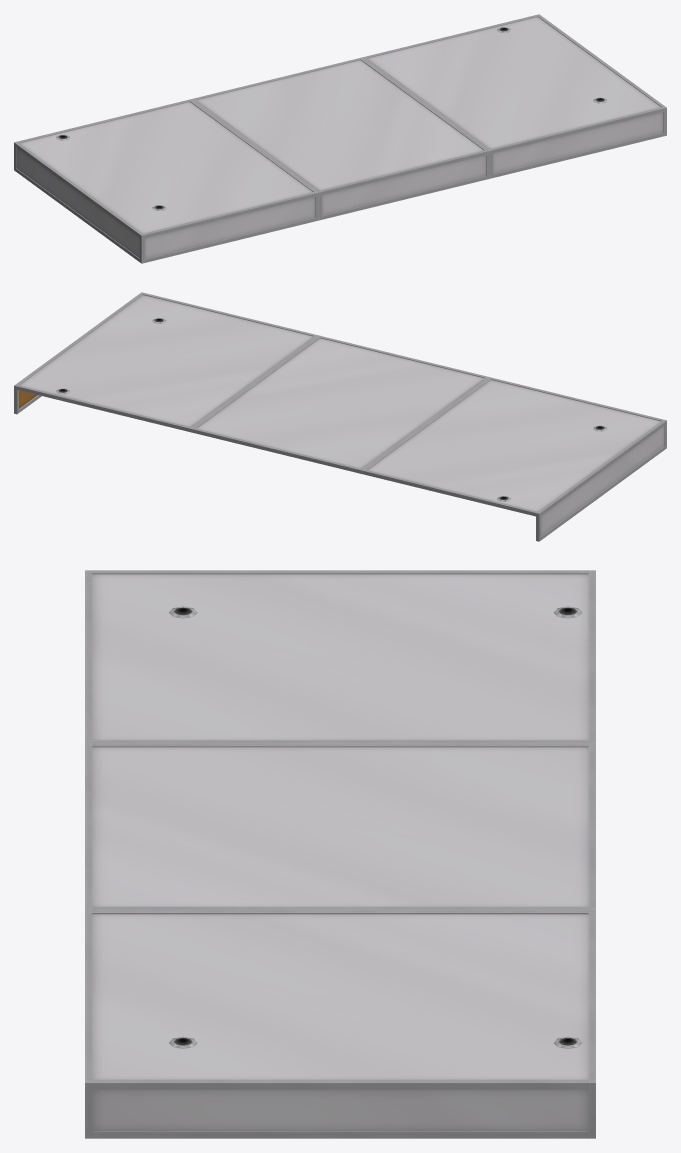
File: jsf_4P_s02_c04_t01_DX.fbx
3 renders of one model, top to bottom at view 1: azimuth 30°, elevation 25°; view 2: azimuth 150°, elevation 25°; view 3: azimuth 270°, elevation 25°, orthographic. The views are drawn at different scales.
Parts seen in each view (by area): view 1: jsf_4P_s02_c04_t01_DX; view 2: jsf_4P_s02_c04_t01_DX; view 3: jsf_4P_s02_c04_t01_DX.
Boxes of the visible parts, left/top/right/bottom form: jsf_4P_s02_c04_t01_DX: left=14, top=14, right=666, bottom=263; jsf_4P_s02_c04_t01_DX: left=14, top=292, right=666, bottom=541; jsf_4P_s02_c04_t01_DX: left=85, top=570, right=595, bottom=1138.
Bounding box in the file's own units: 246 × 12.99 × 104.
